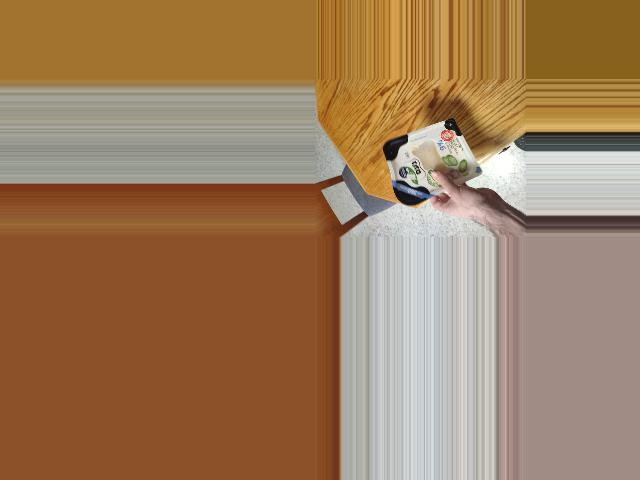cheese: (378, 122, 465, 202)
